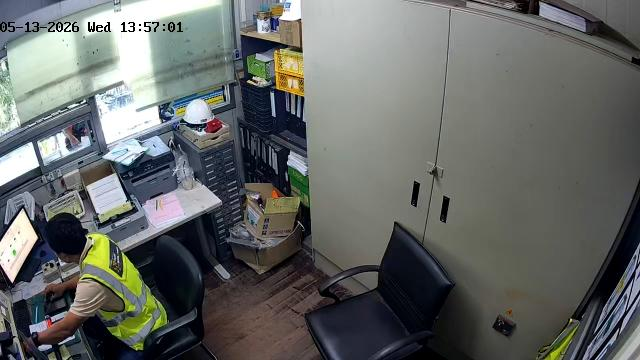Head: (45, 213, 87, 263)
People: (31, 213, 167, 359)
Phone: (44, 297, 67, 315)
